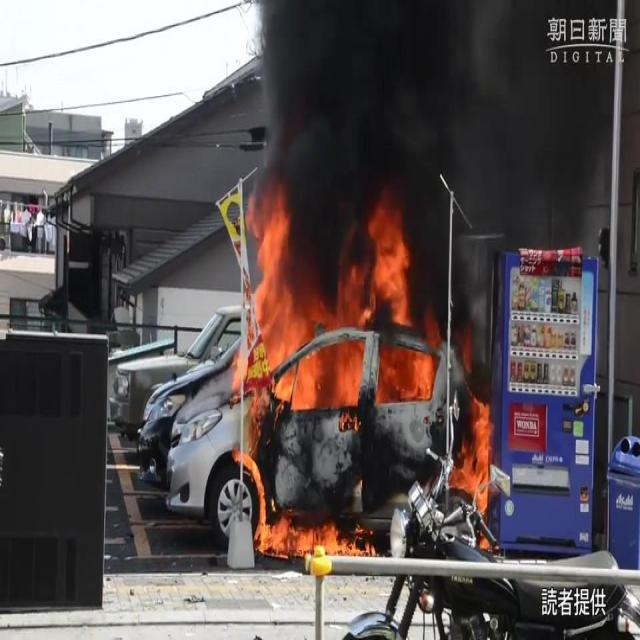Fire: (225, 200, 499, 575)
